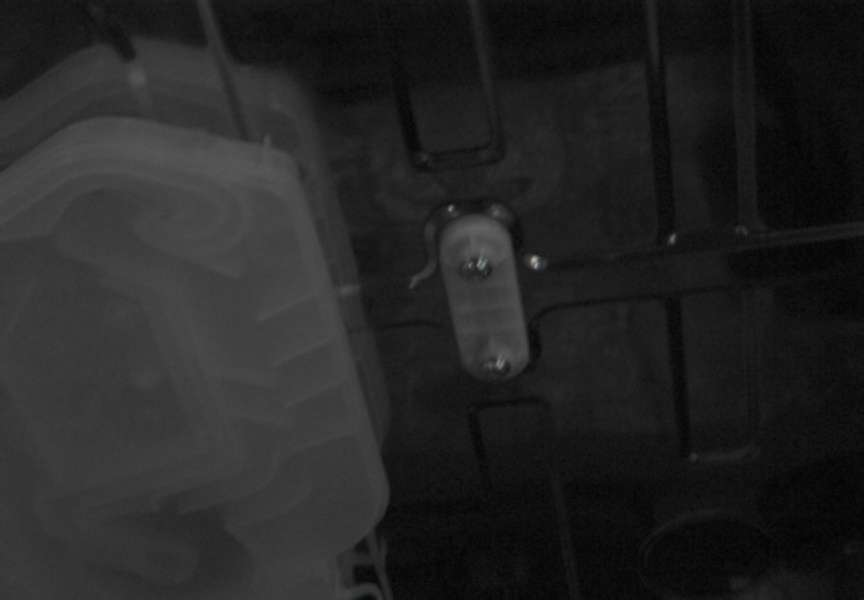screw: (459, 256, 493, 280), (481, 355, 511, 380)
